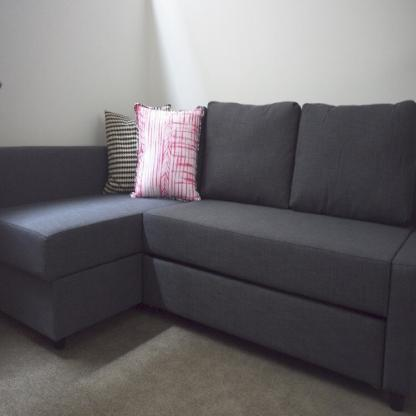Sofa: (53, 108, 416, 394)
